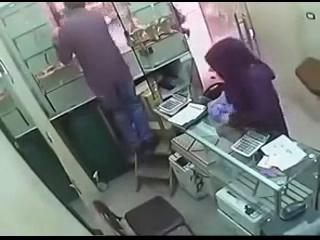Normal: (52, 4, 158, 162)
